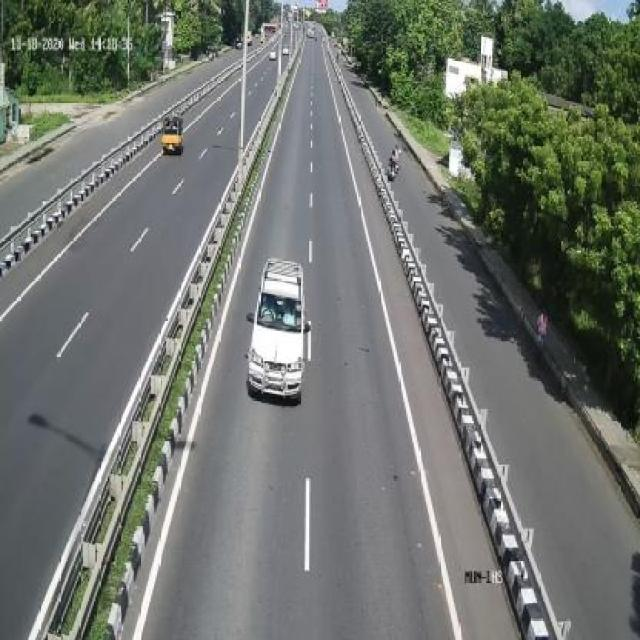car: (245, 254, 309, 403), (157, 108, 185, 154)
